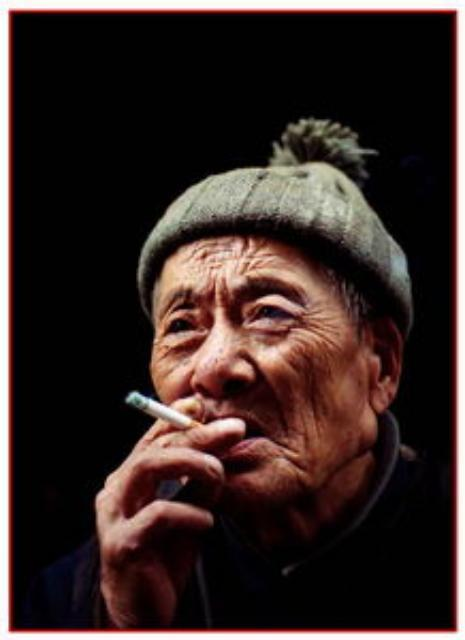SafeDriving: (239, 292, 296, 339), (153, 300, 210, 346)
Smoking: (120, 389, 204, 435)
